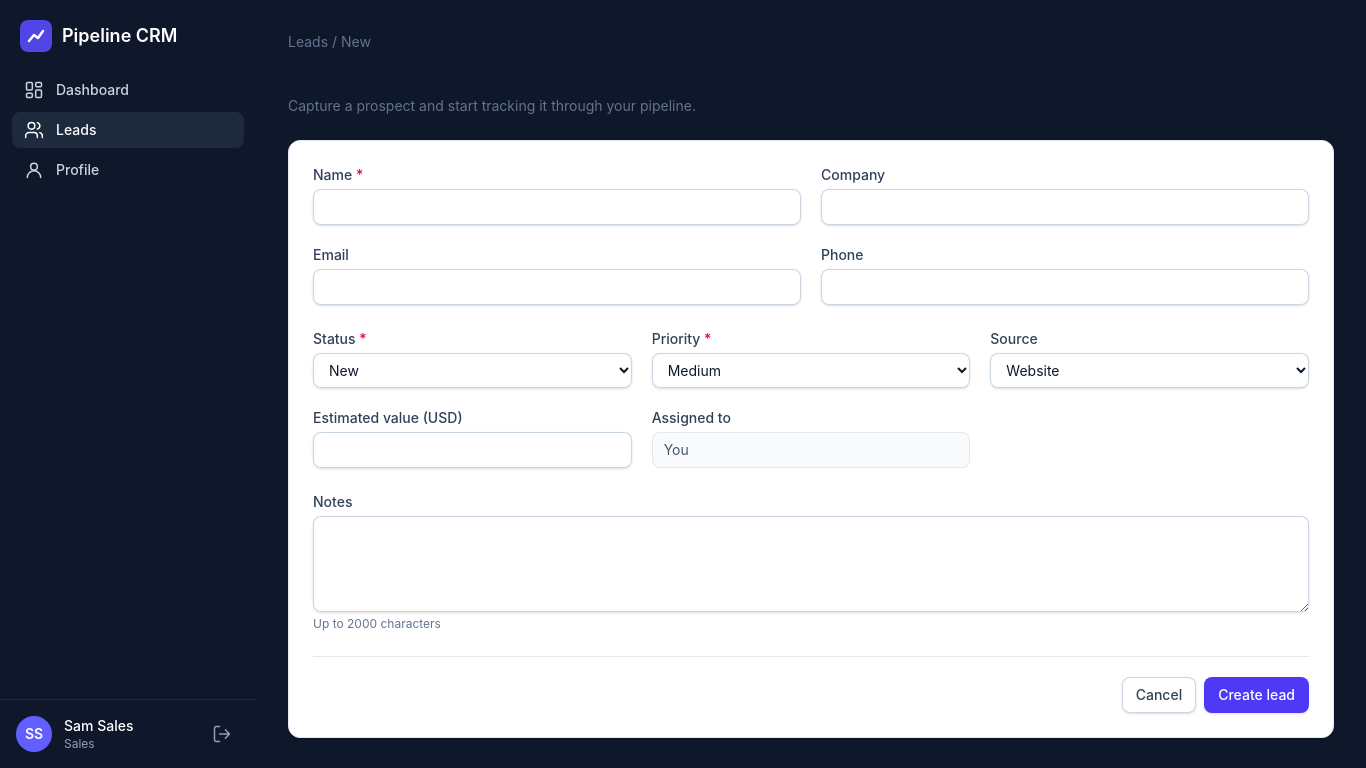
Scenario: create lead › validates required fields before submitting
The image size is (1366, 768).
Click the button "Create lead": (1257, 695) top-left (1204, 677), bottom-right (1309, 713)
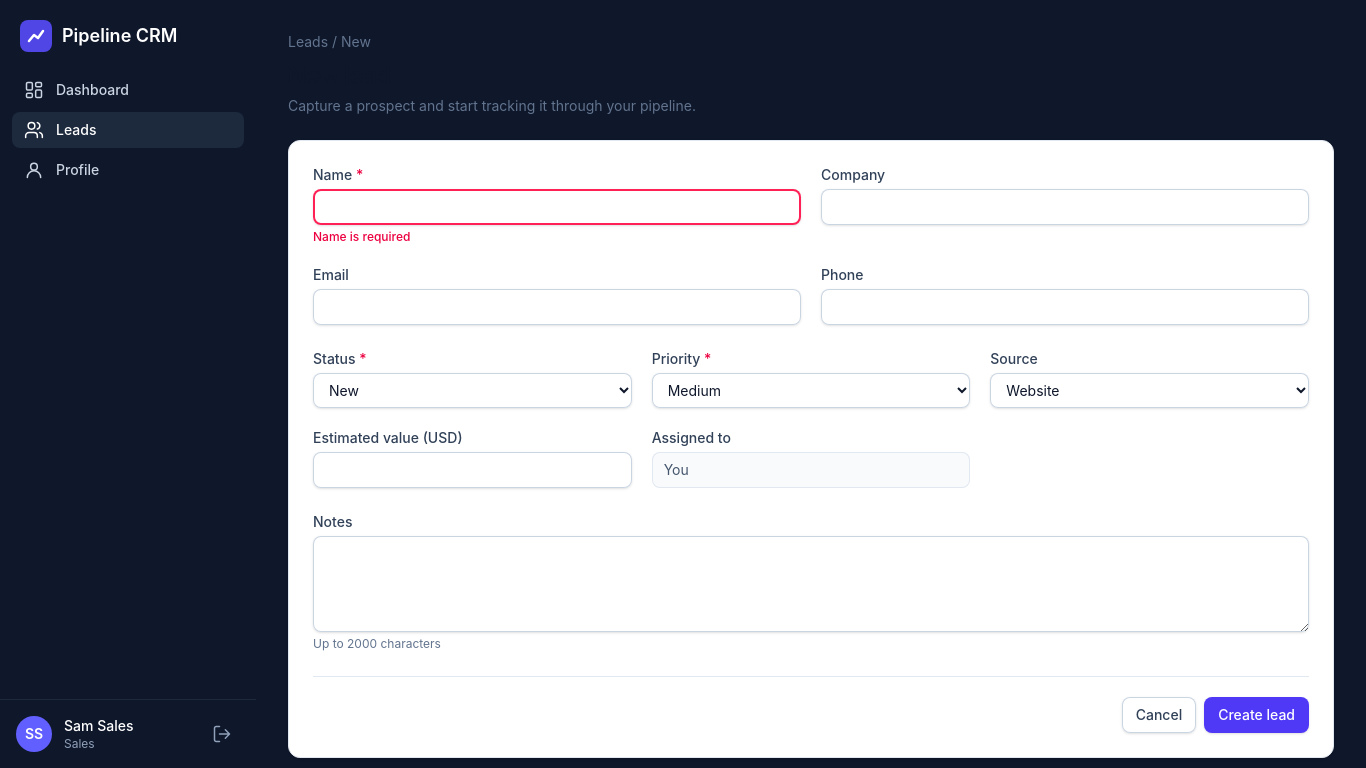
Expected: the text "Name is required" is shown, top-left (313, 229), bottom-right (410, 244)
